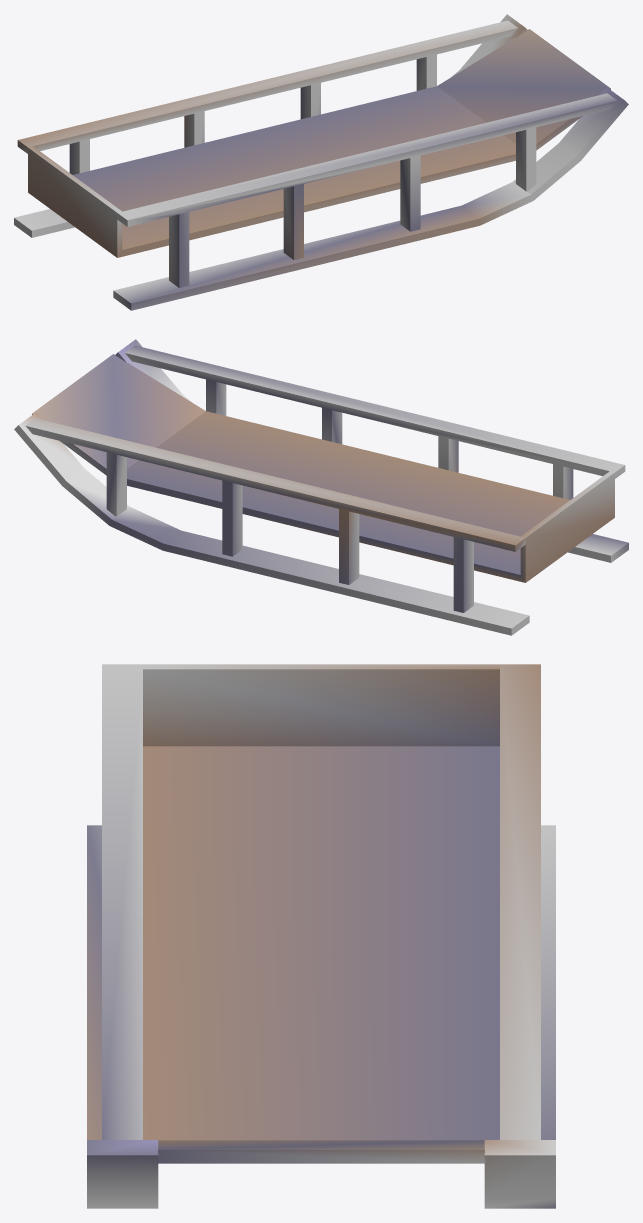
The model's file is VolokushiV3.fbx.
The picture shows the model from 3 angles, top to bottom: view 1: azimuth 30°, elevation 25°; view 2: azimuth 150°, elevation 25°; view 3: azimuth 270°, elevation 25°; orthographic projection. The views are drawn at different scales.
Parts seen in each view (by area): view 1: Volokushi; view 2: Volokushi; view 3: Volokushi.
Part boxes in pixels (box(x1,y1,x2,y2)): Volokushi: box(14, 14, 628, 310); Volokushi: box(14, 339, 628, 635); Volokushi: box(87, 664, 555, 1208).
Size of the model in its own units: 154 by 26.83 by 63.07.
